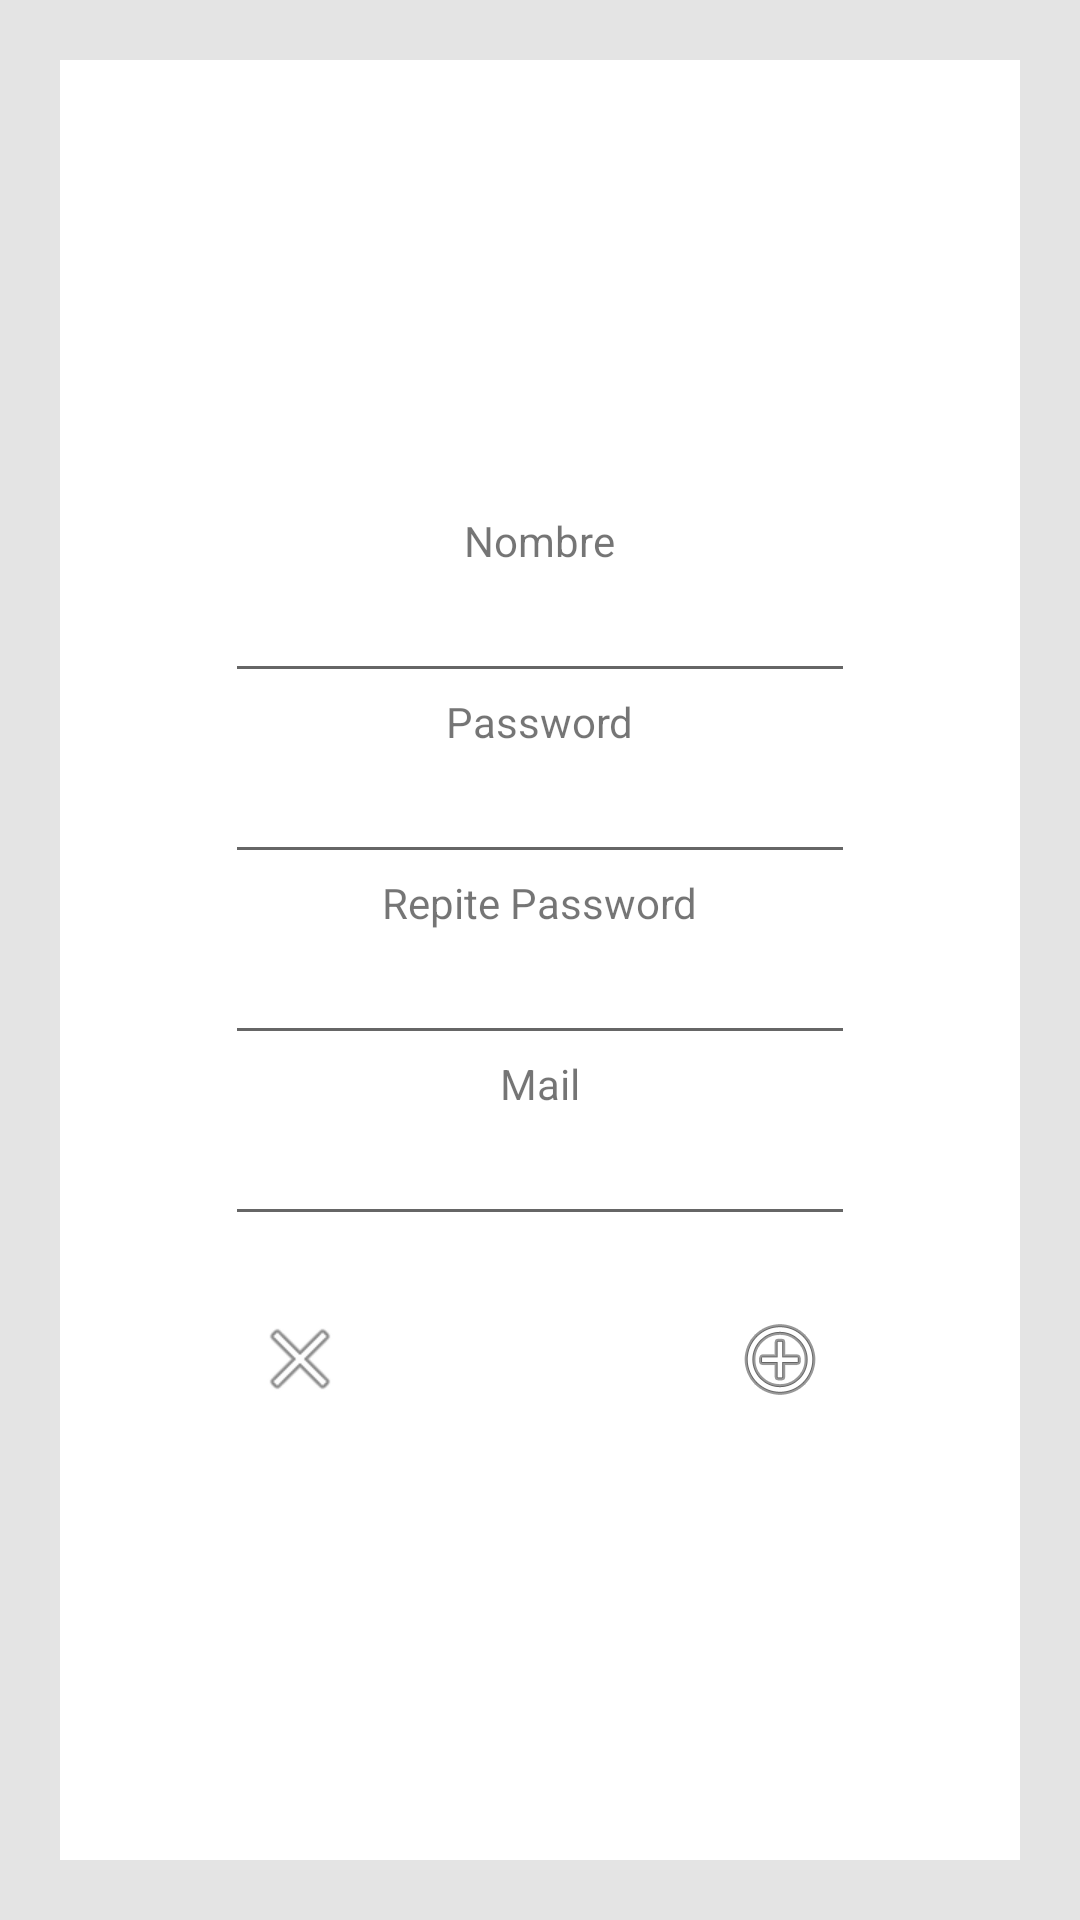

Named icons in this screenshot (1080*1920) and their bounding boxes, (x1, y1, x2, y2):
add: (744, 1324, 816, 1395)
close clear cancel: (270, 1329, 330, 1389)
